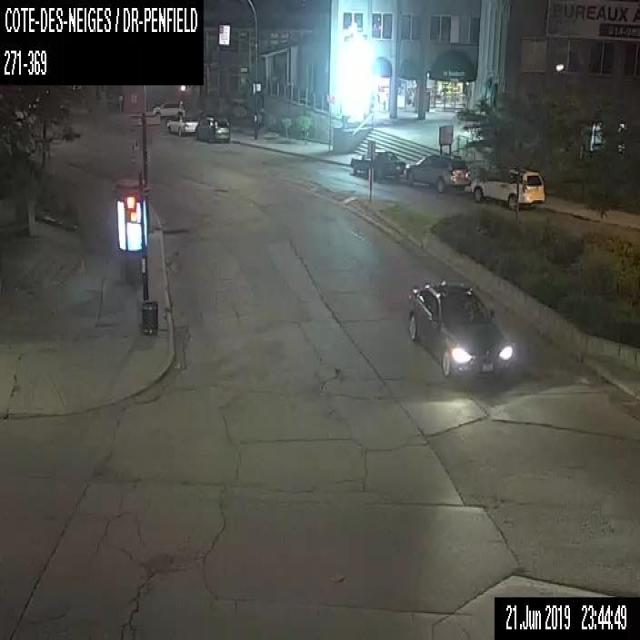vehicle: (406, 275, 516, 377), (470, 164, 545, 210), (404, 152, 472, 192), (350, 148, 406, 178), (194, 115, 229, 141), (166, 113, 198, 137), (152, 98, 185, 118)
